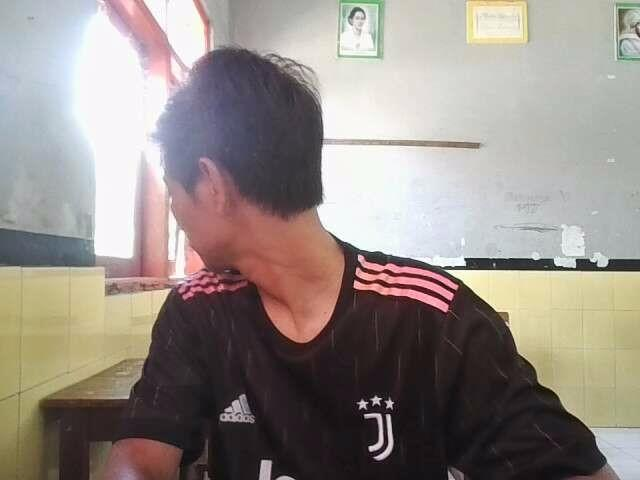cheating: (84, 36, 628, 480)
